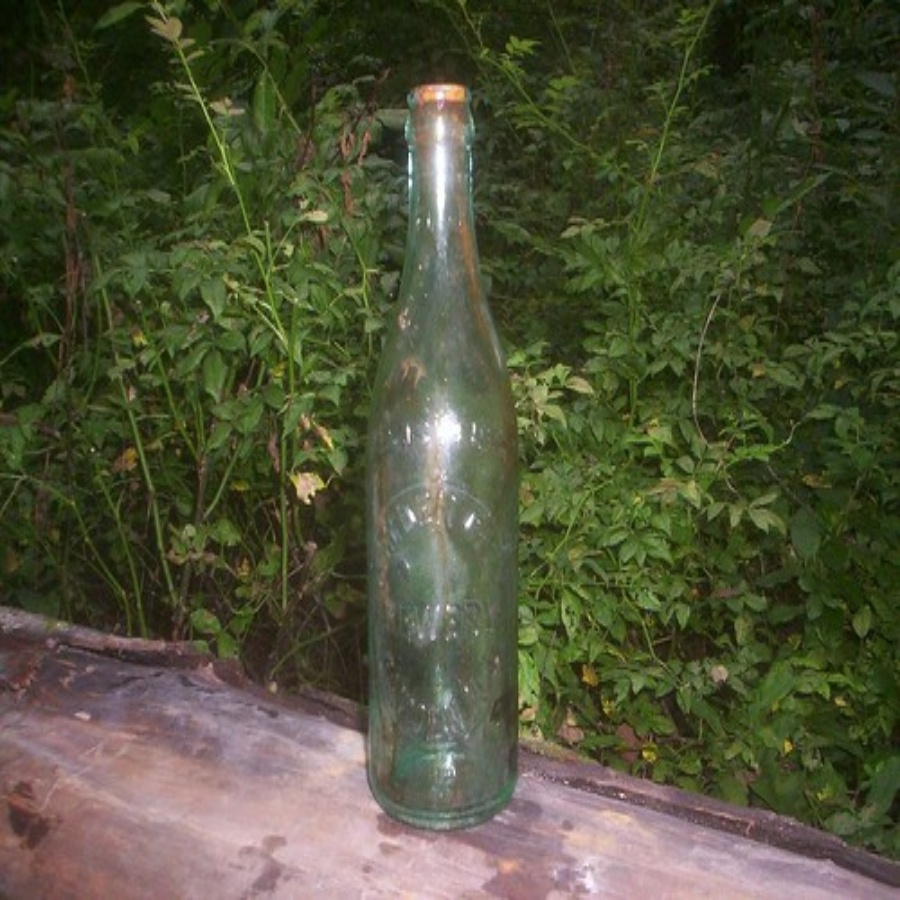beer: (357, 67, 527, 831)
